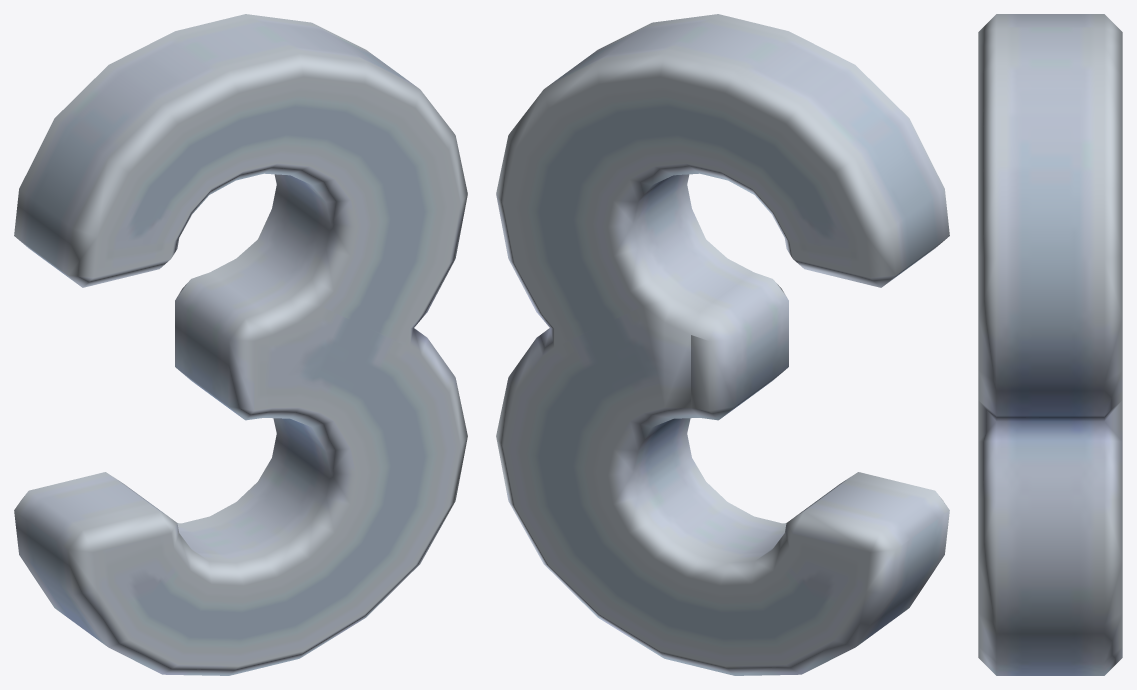
File: rmk_nmb_3.dae
3 views of the same model, side by side, from view 1: azimuth 30°, elevation 25°; view 2: azimuth 150°, elevation 25°; view 3: azimuth 270°, elevation 25° (orthographic).
Visible parts, largest first — view 1: rmk_nmb_3; view 2: rmk_nmb_3; view 3: rmk_nmb_3.
Boxes of the visible parts, left/top/right/bottom form: rmk_nmb_3: left=14, top=14, right=467, bottom=675; rmk_nmb_3: left=496, top=14, right=949, bottom=675; rmk_nmb_3: left=978, top=14, right=1122, bottom=675.
Size of the model in its own units: 20.82 by 30.12 by 6.5.
Materials: 1 (1 with a texture image).
